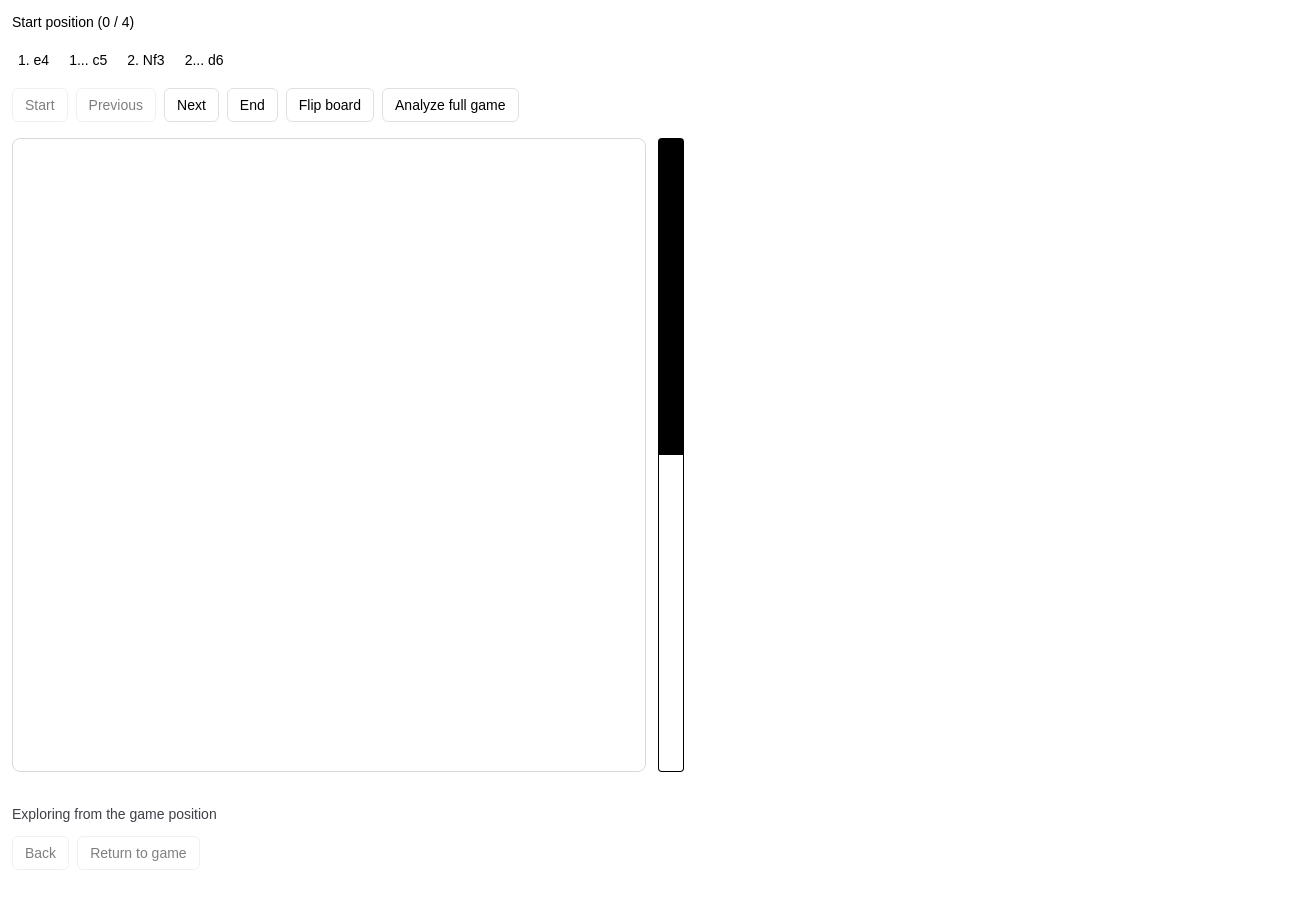
Test: ReviewBoard Opening Integration › shows correct ECO code and name for a known opening
Click the button "Next".
click(191, 105)  # box [164,88,219,122]
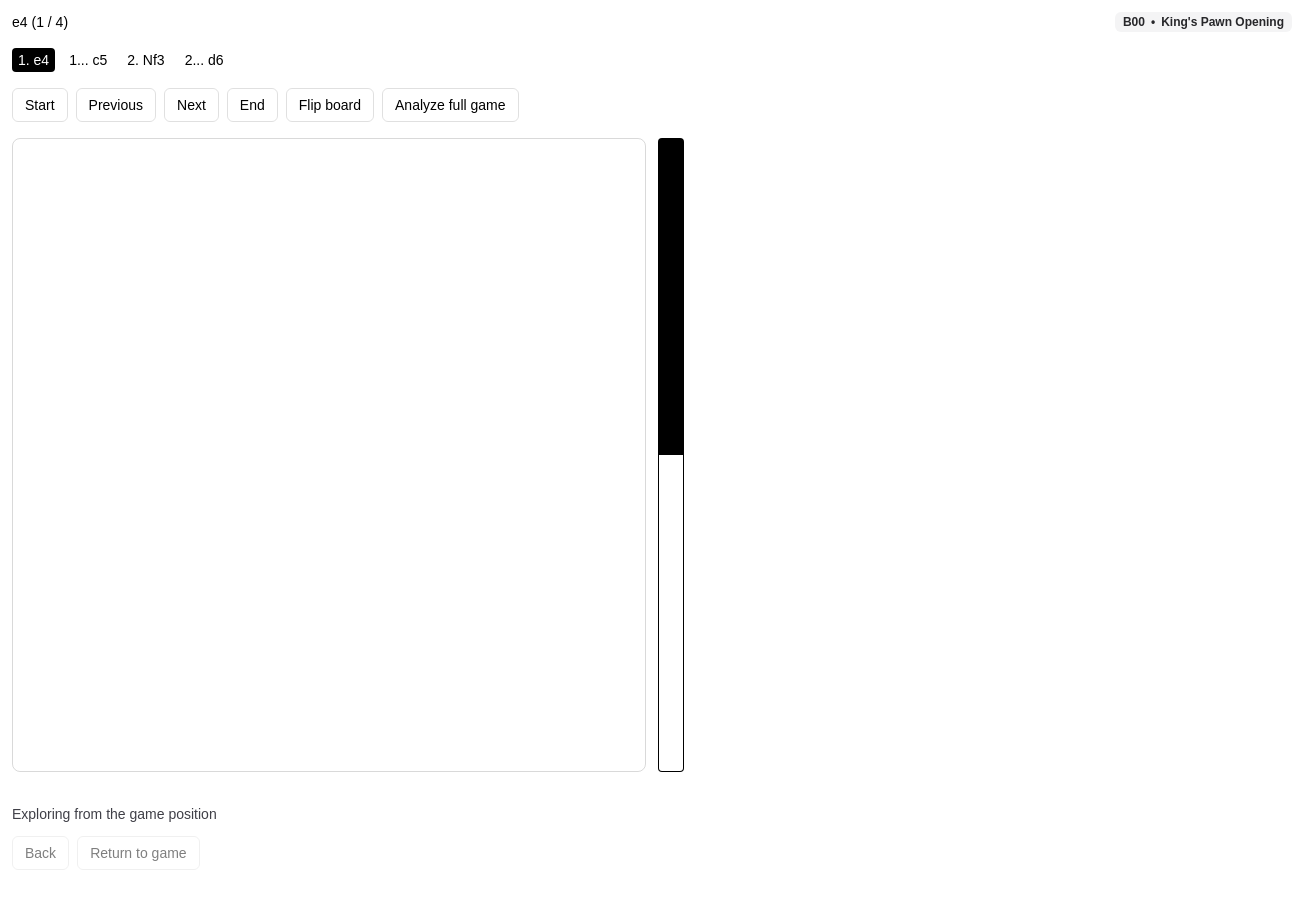
Click the button "Next".
click(191, 105)  # box [164,88,219,122]
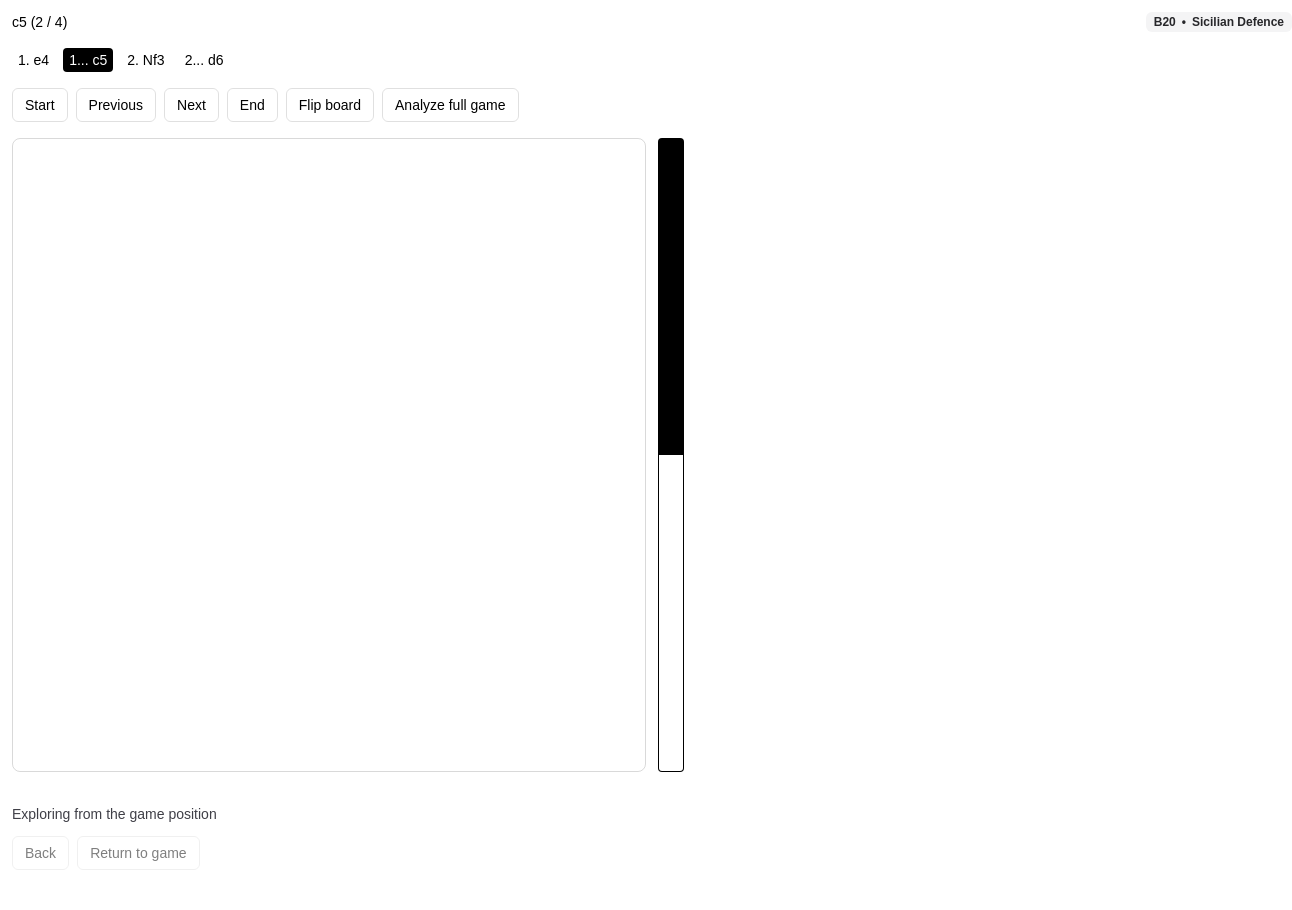
Expected: the text with test id "opening-eco" reads "B20", [1154,15,1176,29]
Expected: the text with test id "opening-name" reads "Sicilian Defence", [1192,15,1284,29]
